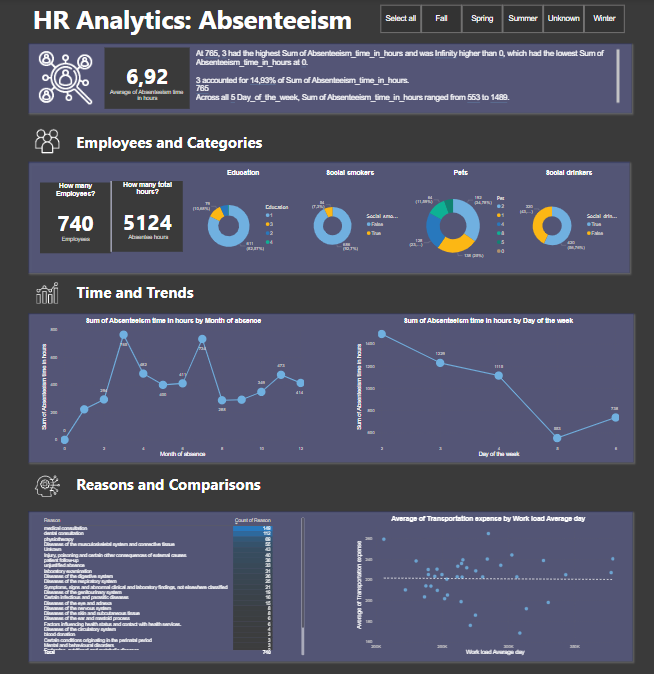

What the dashboard file says about the page in this screenshot:
{"tool":"powerbi","page":{"name":"Strona 1","canvas":[1880,1920],"ordinal":0},"visuals":[{"type":"shape","box":[92,1444,1728,420],"z":0},{"type":"shape","box":[92.1,892.1,1728.9,421.1],"z":1000},{"type":"shape","box":[91.9,118.9,1724.3,216.2],"z":2000},{"type":"shape","box":[92.6,451.9,1718.5,333.3],"z":3000},{"type":"card","fields":{"Values":["Avg(Zapytanie1.Absenteeism_time_in_hours)"]},"box":[318.4,140.8,240.8,173.5],"z":4000},{"type":"donutChart","title":"Education","fields":{"Y":["CountNonNull(Zapytanie1.Education)"],"Category":["Zapytanie1.Education"]},"box":[613.8,482.6,300,300],"z":5000},{"type":"donutChart","title":"Social smokers","fields":{"Y":["CountNonNull(Zapytanie1.Social_smoker)"],"Category":["Zapytanie1.Social_smoker"]},"box":[887,469.6,300,300],"z":6000},{"type":"donutChart","title":"Pets","fields":{"Y":["Sum(Zapytanie1.Pet)"],"Category":["Zapytanie1.Pet"]},"box":[1213.8,482.6,300,300],"z":7000},{"type":"donutChart","title":"Social drinkers","fields":{"Y":["CountNonNull(Zapytanie1.Social_drinker)"],"Category":["Zapytanie1.Social_drinker"]},"box":[1515,483.8,300,300],"z":8000},{"type":"lineChart","fields":{"Category":["Zapytanie1.Month_of_absence"],"Y":["Sum(Zapytanie1.Absenteeism_time_in_hours)"]},"box":[135.9,902.6,751.3,400],"z":9000},{"type":"lineChart","fields":{"Category":["Zapytanie1.Day_of_the_week"],"Y":["Sum(Zapytanie1.Absenteeism_time_in_hours)"]},"box":[1025.6,902.6,751.3,400],"z":10000},{"type":"tableEx","fields":{"Values":["Zapytanie1.Reason","CountNonNull(Zapytanie1.Reason)"]},"box":[136.8,1463.2,752.6,400],"z":11000},{"type":"scatterChart","fields":{"Y":["Avg(Zapytanie1.Transportation_expense)"],"X":["Zapytanie1.Work_load_Average_day"]},"box":[1026.3,1463.2,752.6,400],"z":12000},{"type":"card","title":"How many Employees?","fields":{"Values":["CountNonNull(Zapytanie1.ID)"]},"box":[137,519.6,200,200],"z":13000},{"type":"card","title":"How many total hours?","fields":{"Values":["Sum(Zapytanie1.Absenteeism_time_in_hours)"]},"box":[339.1,519.6,200,200],"z":14000},{"type":"slicer","fields":{"Values":["Zapytanie1.Season_Names"]},"box":[1071.8,12.8,738.5,92.3],"z":15000},{"type":"textbox","box":[109.1,6.1,1045.5,133.3],"z":16000},{"type":"textbox","box":[232,372,1052,72],"z":17000},{"type":"textbox","box":[232,796,1052,76],"z":18000},{"type":"textbox","box":[232,1340,1052,80],"z":19000},{"type":"image","box":[126.5,132.7,161.2,187.8],"z":20000},{"type":"image","box":[108,1340,100,80],"z":21000},{"type":"image","box":[108,792,100,80],"z":22000},{"type":"image","box":[108,364,100,80],"z":23000},{"type":"textbox","box":[574.2,132.3,1203.2,190.3],"z":24000},{"type":"shape","box":[187,519.6,300,200],"z":25000}]}

Visuals, with their boxes in screenshot pixels (x1, y1, x2, y2), scaled from the page's 1880x1920 canvas onto the 654x674 screenshot:
shape: <bbox>32, 507, 633, 654</bbox>
shape: <bbox>32, 313, 633, 461</bbox>
shape: <bbox>32, 42, 632, 118</bbox>
shape: <bbox>32, 159, 630, 276</bbox>
card - Avg(Zapytanie1.Absenteeism_time_in_hours): <bbox>111, 49, 195, 110</bbox>
"Education" donutChart: <bbox>214, 169, 318, 275</bbox>
"Social smokers" donutChart: <bbox>309, 165, 413, 270</bbox>
"Pets" donutChart: <bbox>422, 169, 527, 275</bbox>
"Social drinkers" donutChart: <bbox>527, 170, 631, 275</bbox>
lineChart - Zapytanie1.Month_of_absence x Sum(Zapytanie1.Absenteeism_time_in_hours): <bbox>47, 317, 309, 457</bbox>
lineChart - Zapytanie1.Day_of_the_week x Sum(Zapytanie1.Absenteeism_time_in_hours): <bbox>357, 317, 618, 457</bbox>
tableEx - Zapytanie1.Reason x CountNonNull(Zapytanie1.Reason): <bbox>48, 514, 309, 654</bbox>
scatterChart - Avg(Zapytanie1.Transportation_expense) x Zapytanie1.Work_load_Average_day: <bbox>357, 514, 619, 654</bbox>
"How many Employees?" card: <bbox>48, 182, 117, 253</bbox>
"How many total hours?" card: <bbox>118, 182, 188, 253</bbox>
slicer - Zapytanie1.Season_Names: <bbox>373, 4, 630, 37</bbox>
textbox: <bbox>38, 2, 402, 49</bbox>
textbox: <bbox>81, 131, 447, 156</bbox>
textbox: <bbox>81, 279, 447, 306</bbox>
textbox: <bbox>81, 470, 447, 498</bbox>
image: <bbox>44, 47, 100, 113</bbox>
image: <bbox>38, 470, 72, 498</bbox>
image: <bbox>38, 278, 72, 306</bbox>
image: <bbox>38, 128, 72, 156</bbox>
textbox: <bbox>200, 46, 618, 113</bbox>
shape: <bbox>65, 182, 169, 253</bbox>
